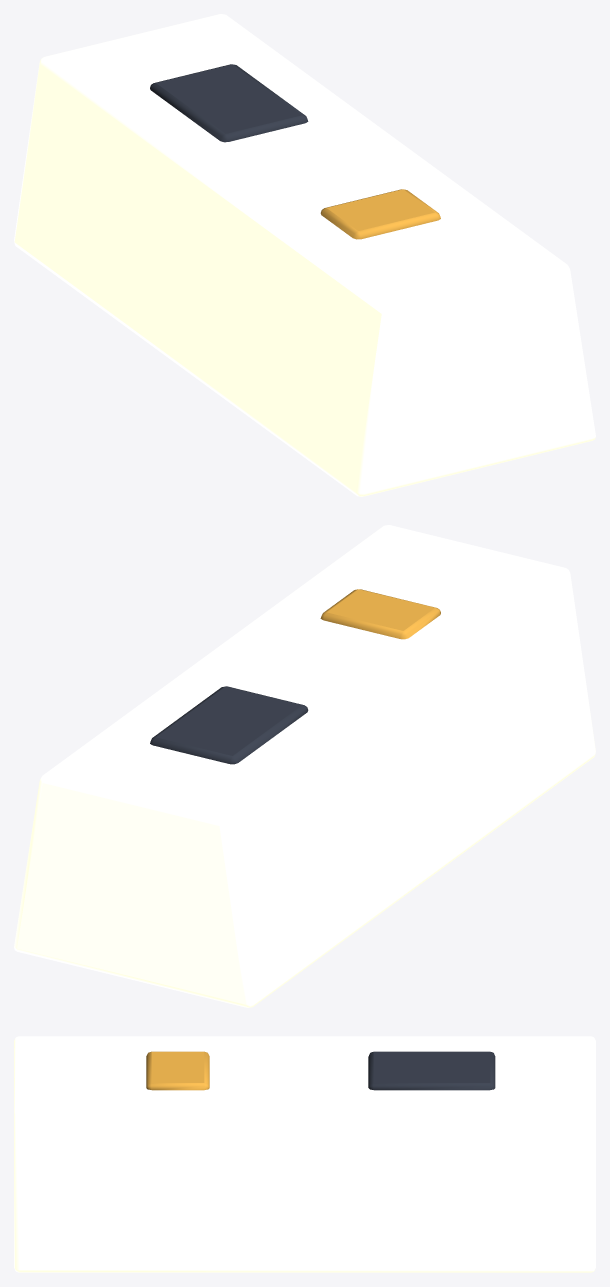
Rendered from ware_brennelement.fbx.
3 views of the same model, one above another, from view 1: azimuth 30°, elevation 25°; view 2: azimuth 150°, elevation 25°; view 3: azimuth 270°, elevation 25° (orthographic). The views are drawn at different scales.
Visible parts, largest first — view 1: ware_brennelement_Koerper; view 2: ware_brennelement_Koerper; view 3: ware_brennelement_Koerper.
Part boxes in pixels (left/top/right/bottom): ware_brennelement_Koerper: left=14, top=14, right=595, bottom=496; ware_brennelement_Koerper: left=14, top=525, right=595, bottom=1007; ware_brennelement_Koerper: left=14, top=1036, right=595, bottom=1272.
Size of the model in its own units: 0.2185 by 0.165 by 0.55.
